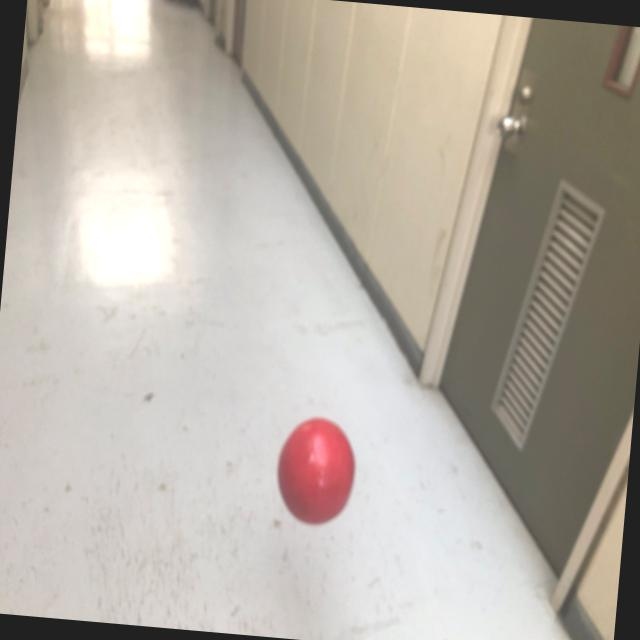red_ball: (273, 414, 361, 526)
